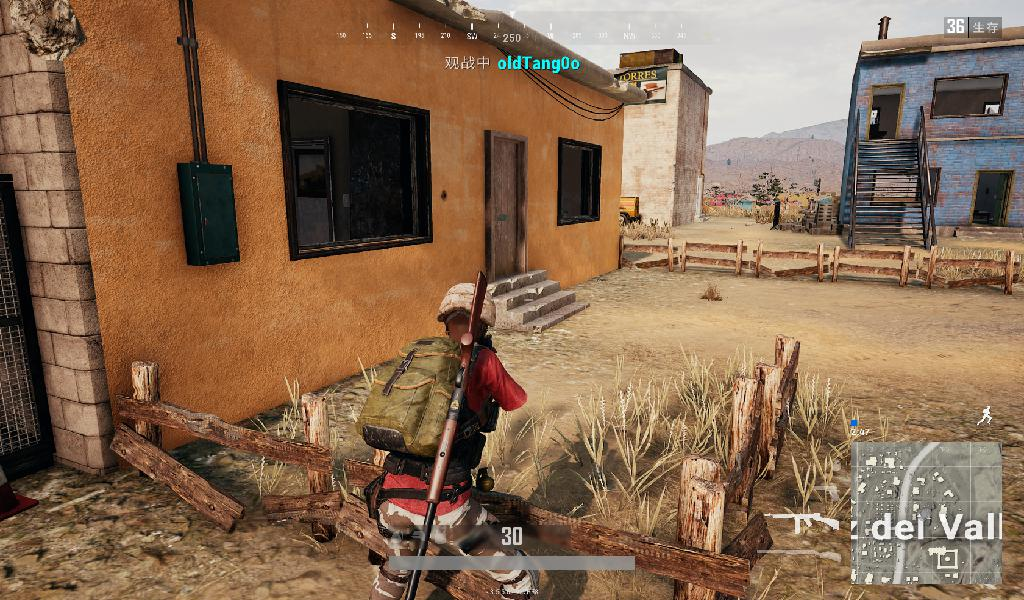Target Person: (356, 269, 543, 600)
